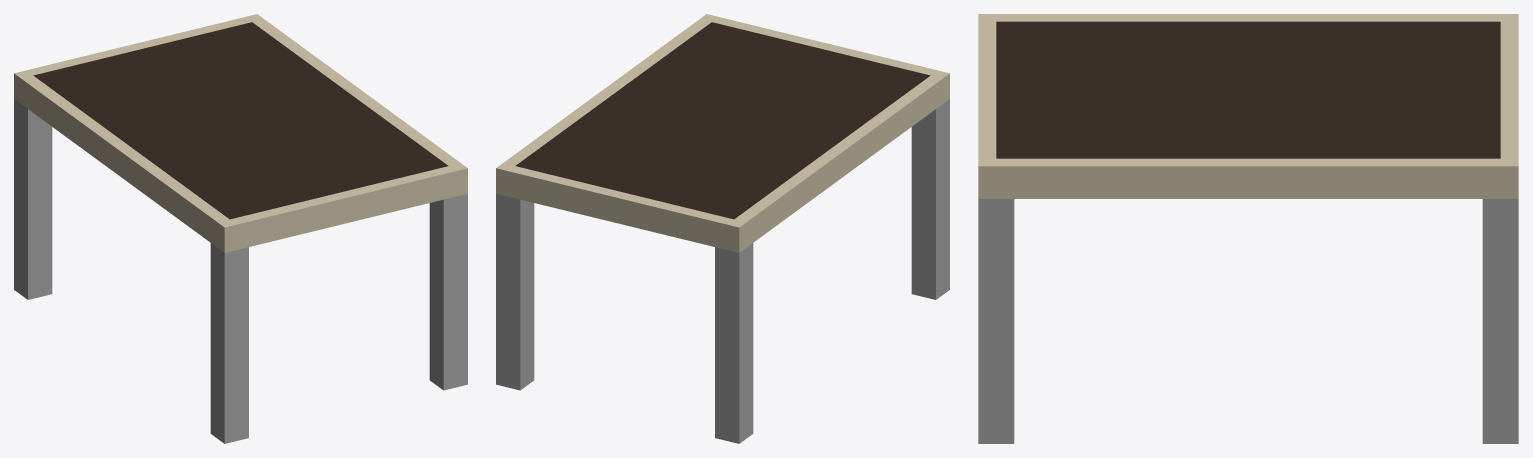
The model's file is Table.obj.
3 views of the same model, side by side, from view 1: azimuth 30°, elevation 25°; view 2: azimuth 150°, elevation 25°; view 3: azimuth 270°, elevation 25° (orthographic). The views are drawn at different scales.
Bounding box in the file's own units: 20 × 17 × 30.
Materials: 1 (1 with a texture image).
